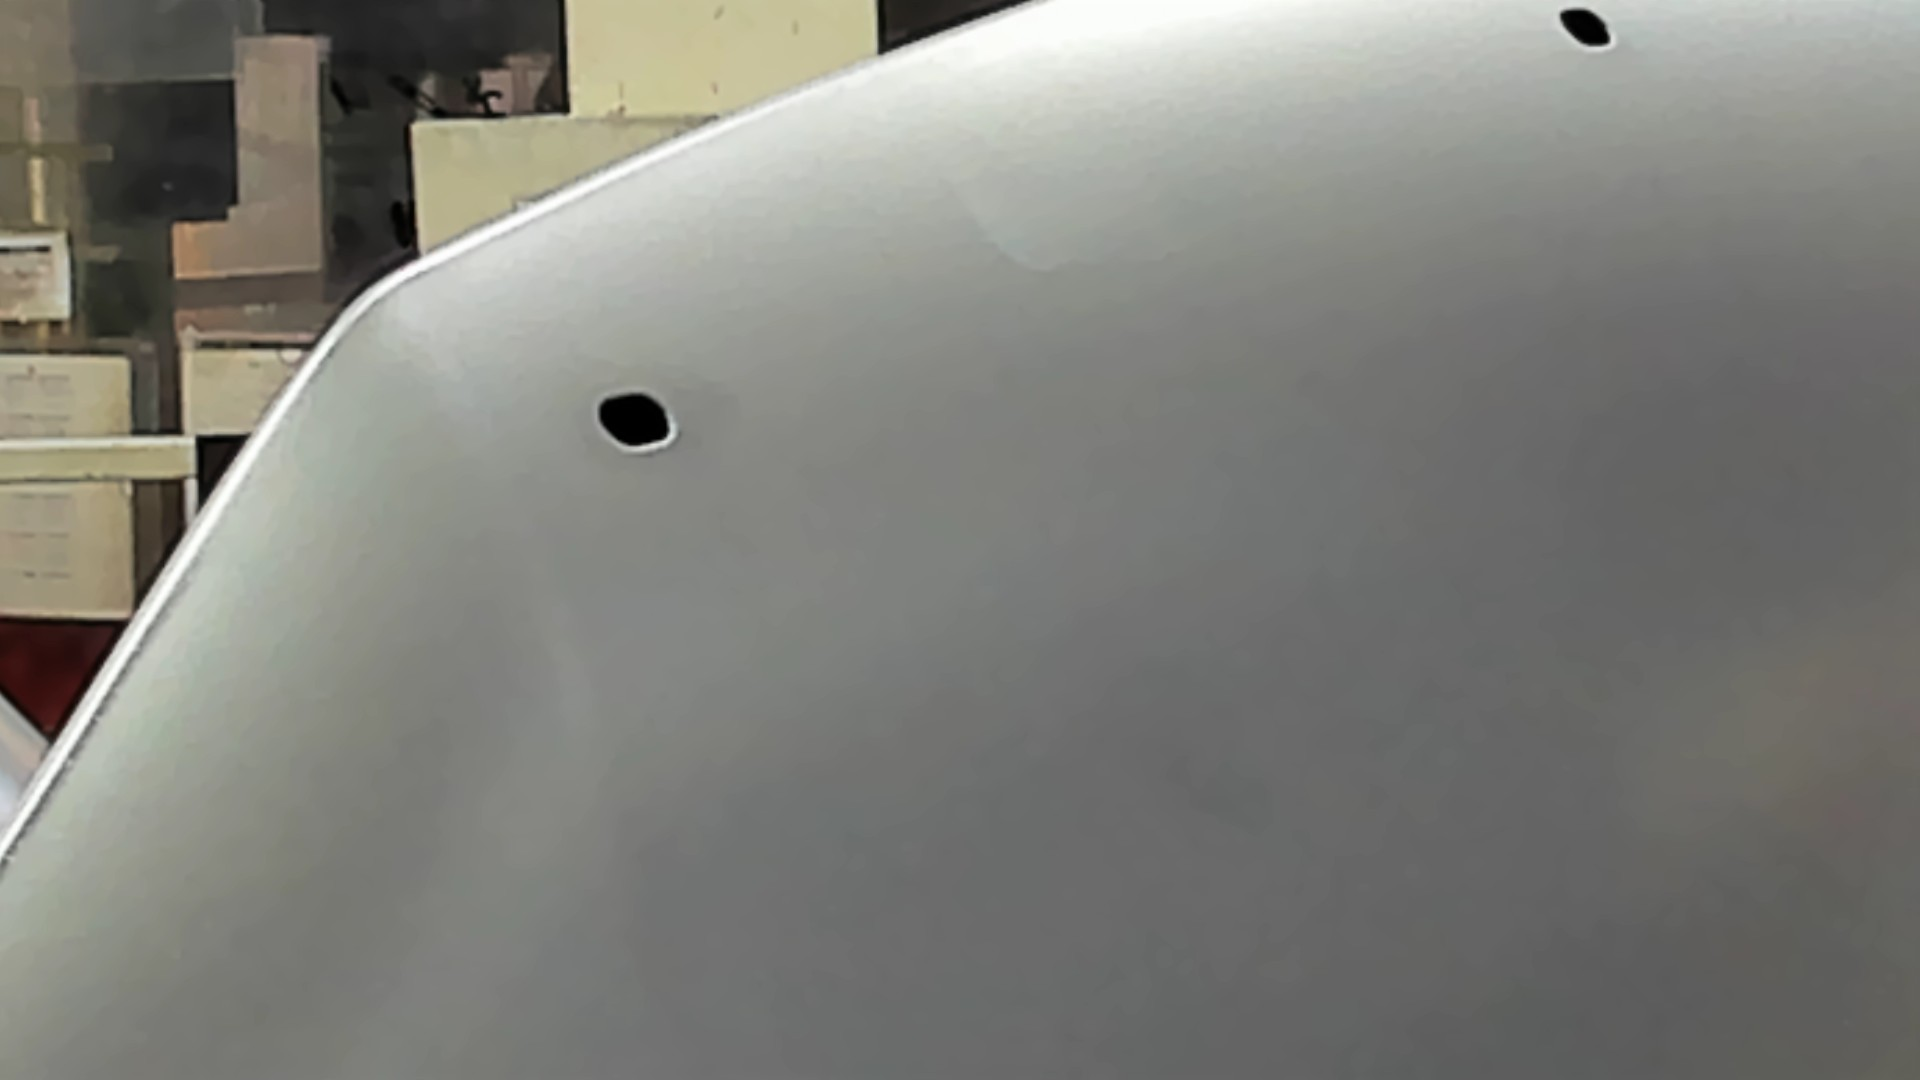amorfo: (588, 382, 679, 459), (1553, 1, 1615, 51)
